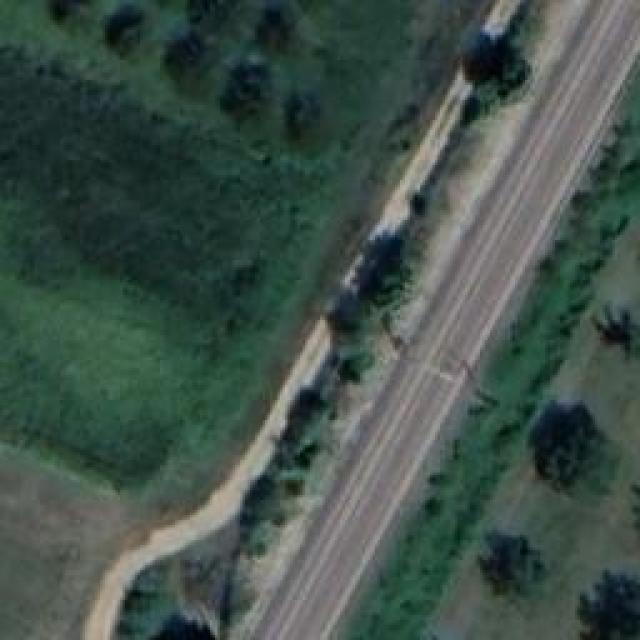Tree: (525, 400, 608, 495), (470, 530, 543, 610), (157, 30, 225, 105), (577, 572, 640, 639), (353, 238, 413, 308), (580, 293, 640, 363), (465, 38, 530, 98), (225, 60, 280, 128), (102, 3, 150, 58), (185, 0, 245, 40), (255, 7, 298, 55), (290, 90, 328, 140), (328, 295, 363, 338), (48, 0, 91, 30)
